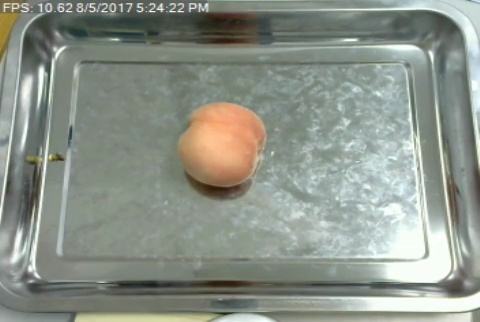Peach: (178, 101, 265, 188)
